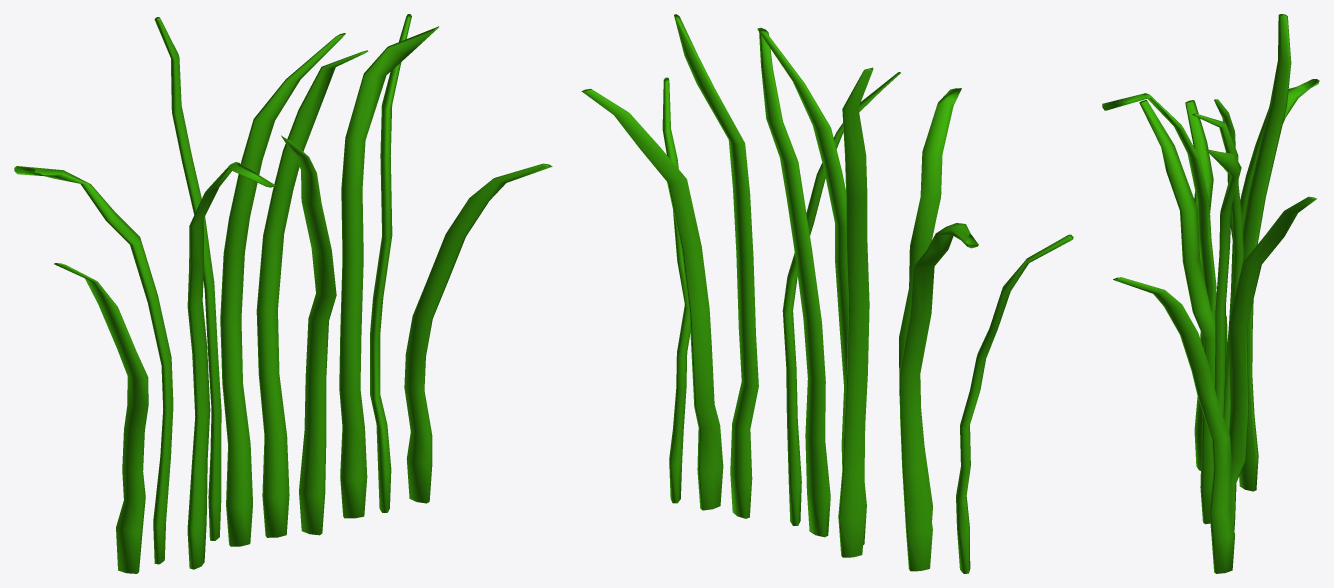
The model's file is grass 2.glb.
The picture shows the model from 3 angles, left to right: view 1: azimuth 30°, elevation 25°; view 2: azimuth 150°, elevation 25°; view 3: azimuth 270°, elevation 25°; orthographic projection. The views are drawn at different scales.
Parts seen in each view (by area): view 1: Cylinder.008; view 2: Cylinder.008; view 3: Cylinder.008.
Part boxes in pixels (bbox=[...]): Cylinder.008: bbox=[14, 14, 552, 573]; Cylinder.008: bbox=[581, 14, 1073, 573]; Cylinder.008: bbox=[1102, 14, 1319, 573].
Bounding box in the file's own units: 0.2219 × 0.2407 × 0.1031.
